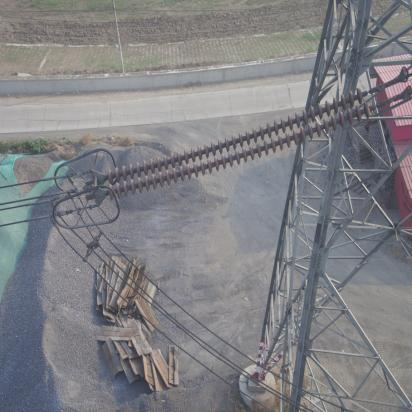insulator: (103, 86, 390, 203)
